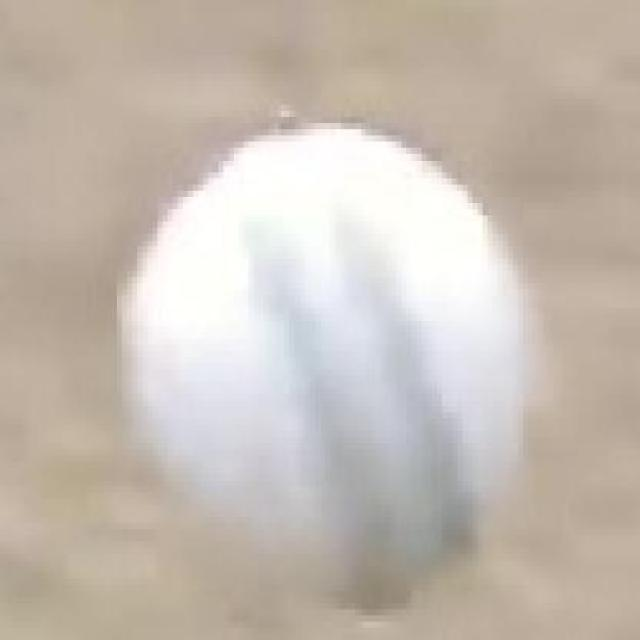Cricket ball: (109, 115, 544, 621)
